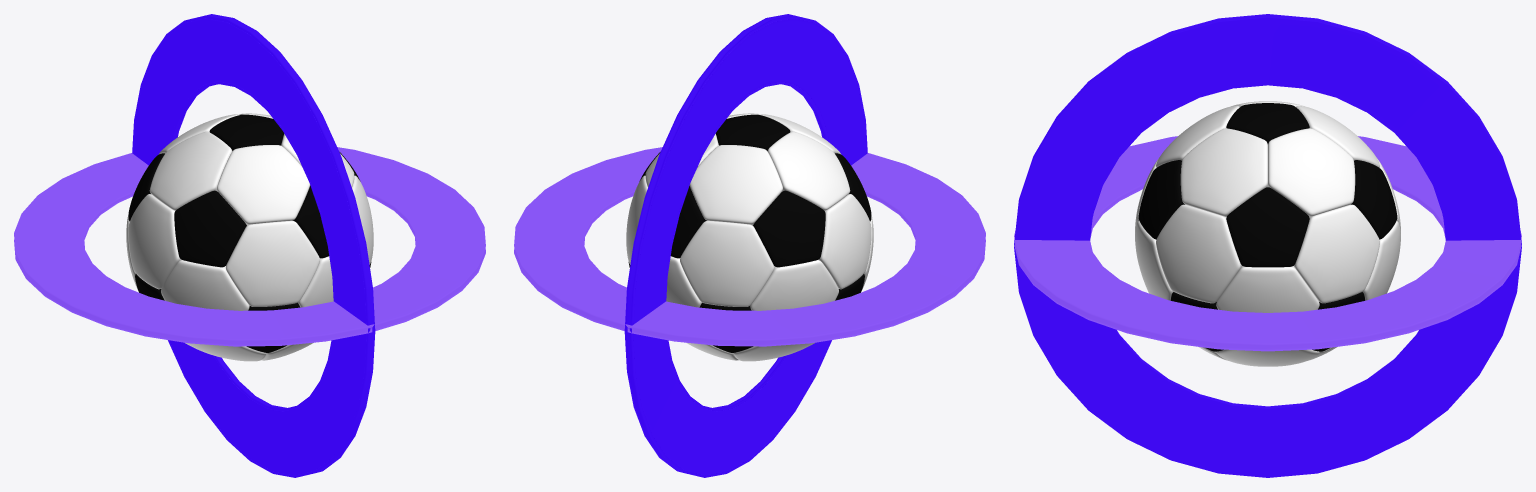
File: footballOrb.glb
3 views of the same model, side by side, from view 1: azimuth 30°, elevation 25°; view 2: azimuth 150°, elevation 25°; view 3: azimuth 270°, elevation 25° (orthographic). The views are drawn at different scales.
Parts seen in each view (by area): view 1: Circle.001, Icosphere, Circle; view 2: Circle.001, Icosphere, Circle; view 3: Circle.001, Icosphere, Circle.
Part boxes in pixels (left/top/right/bottom): Circle.001: left=132, top=14, right=375, bottom=477; Icosphere: left=126, top=113, right=373, bottom=361; Circle: left=14, top=147, right=485, bottom=346; Circle.001: left=624, top=14, right=867, bottom=477; Icosphere: left=626, top=113, right=873, bottom=361; Circle: left=514, top=147, right=985, bottom=346; Circle.001: left=1014, top=14, right=1521, bottom=477; Icosphere: left=1135, top=101, right=1400, bottom=366; Circle: left=1014, top=136, right=1521, bottom=351.
Size of the model in its own units: 3.53 by 3.53 by 3.53.
